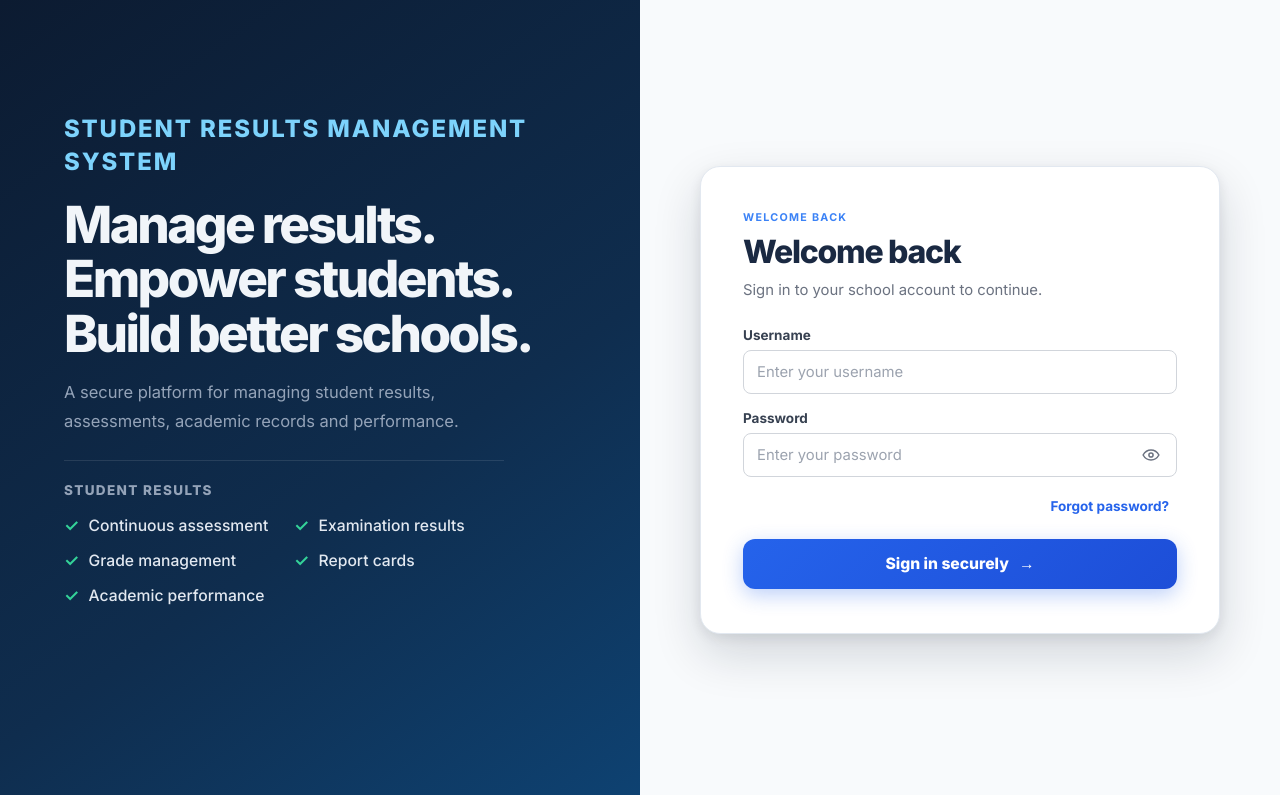
Test case: uses the authenticated account role to show its workspace
The image size is (1280, 795).
Type "teacher1" into the field labelled "Username". click: (960, 372)
box: [743,350,1177,394]
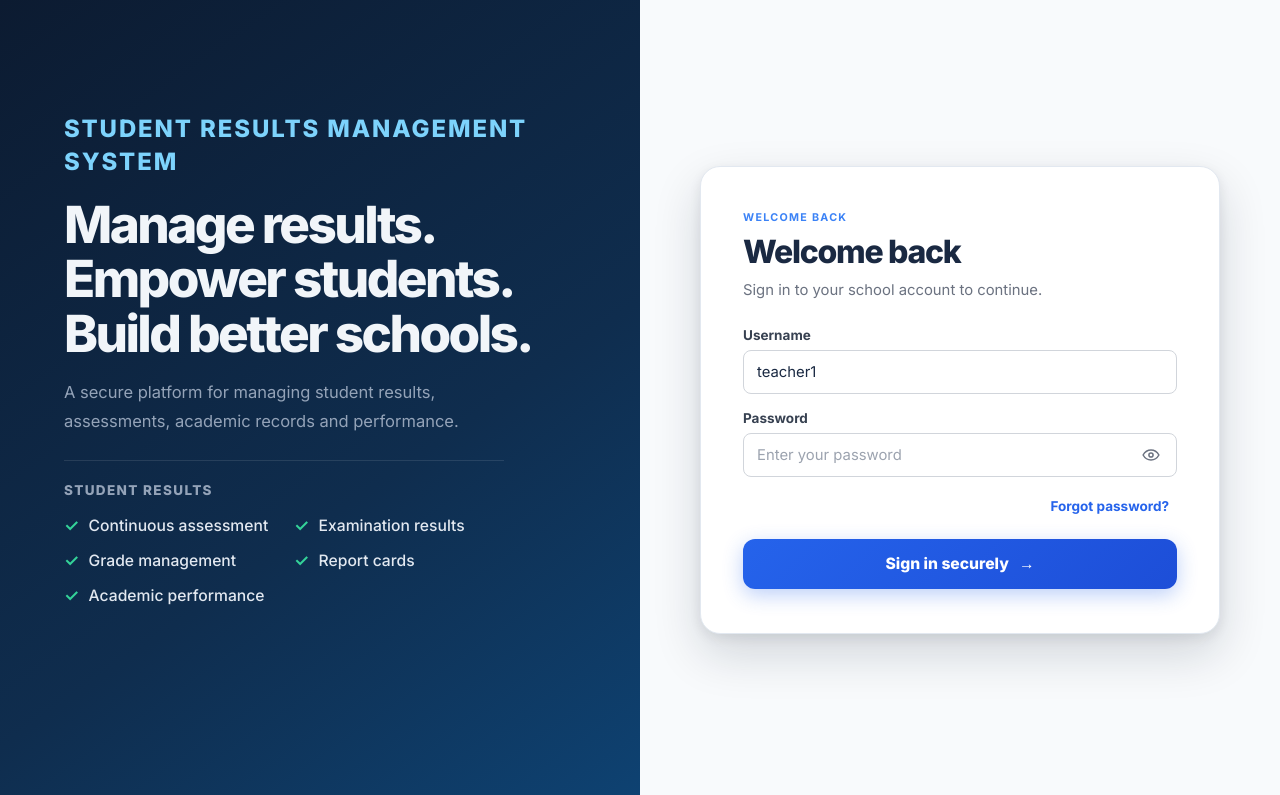
Type "secretpass" into the password field labelled "Password". click: (960, 455)
box: [743,433,1177,477]
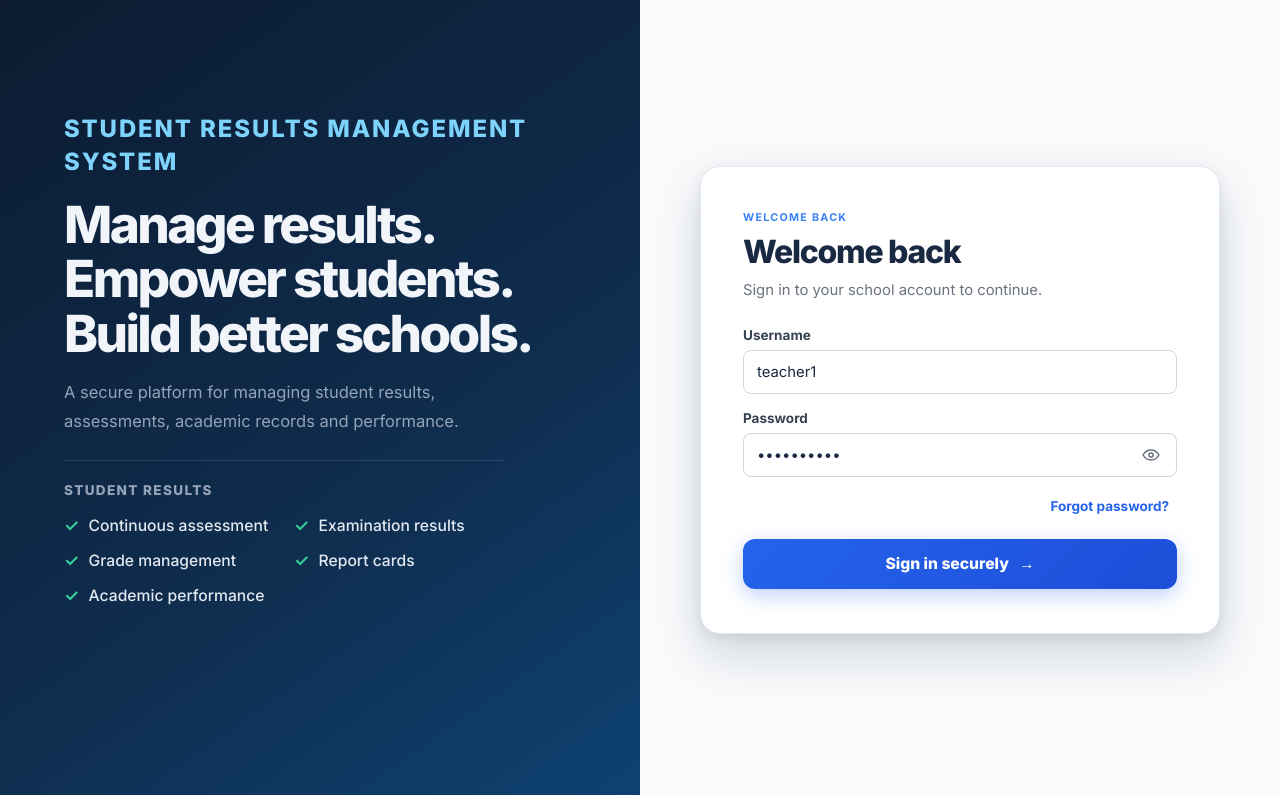
Click the button "Sign in securely →". click: (960, 564)
box: [743,539,1177,589]
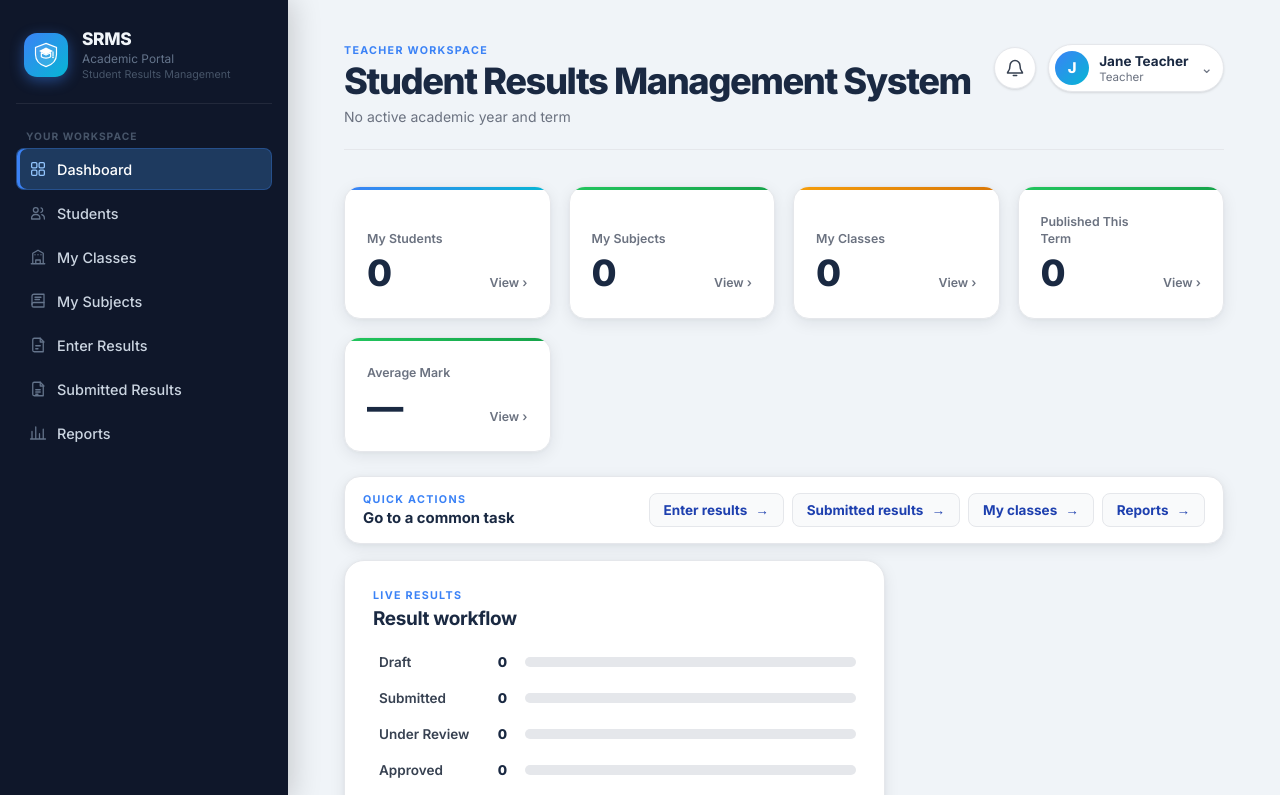
Now the text "TEACHER WORKSPACE" is shown, box [344,44,488,57]
Now the button "Enter Results" is shown, box [16,324,272,366]
